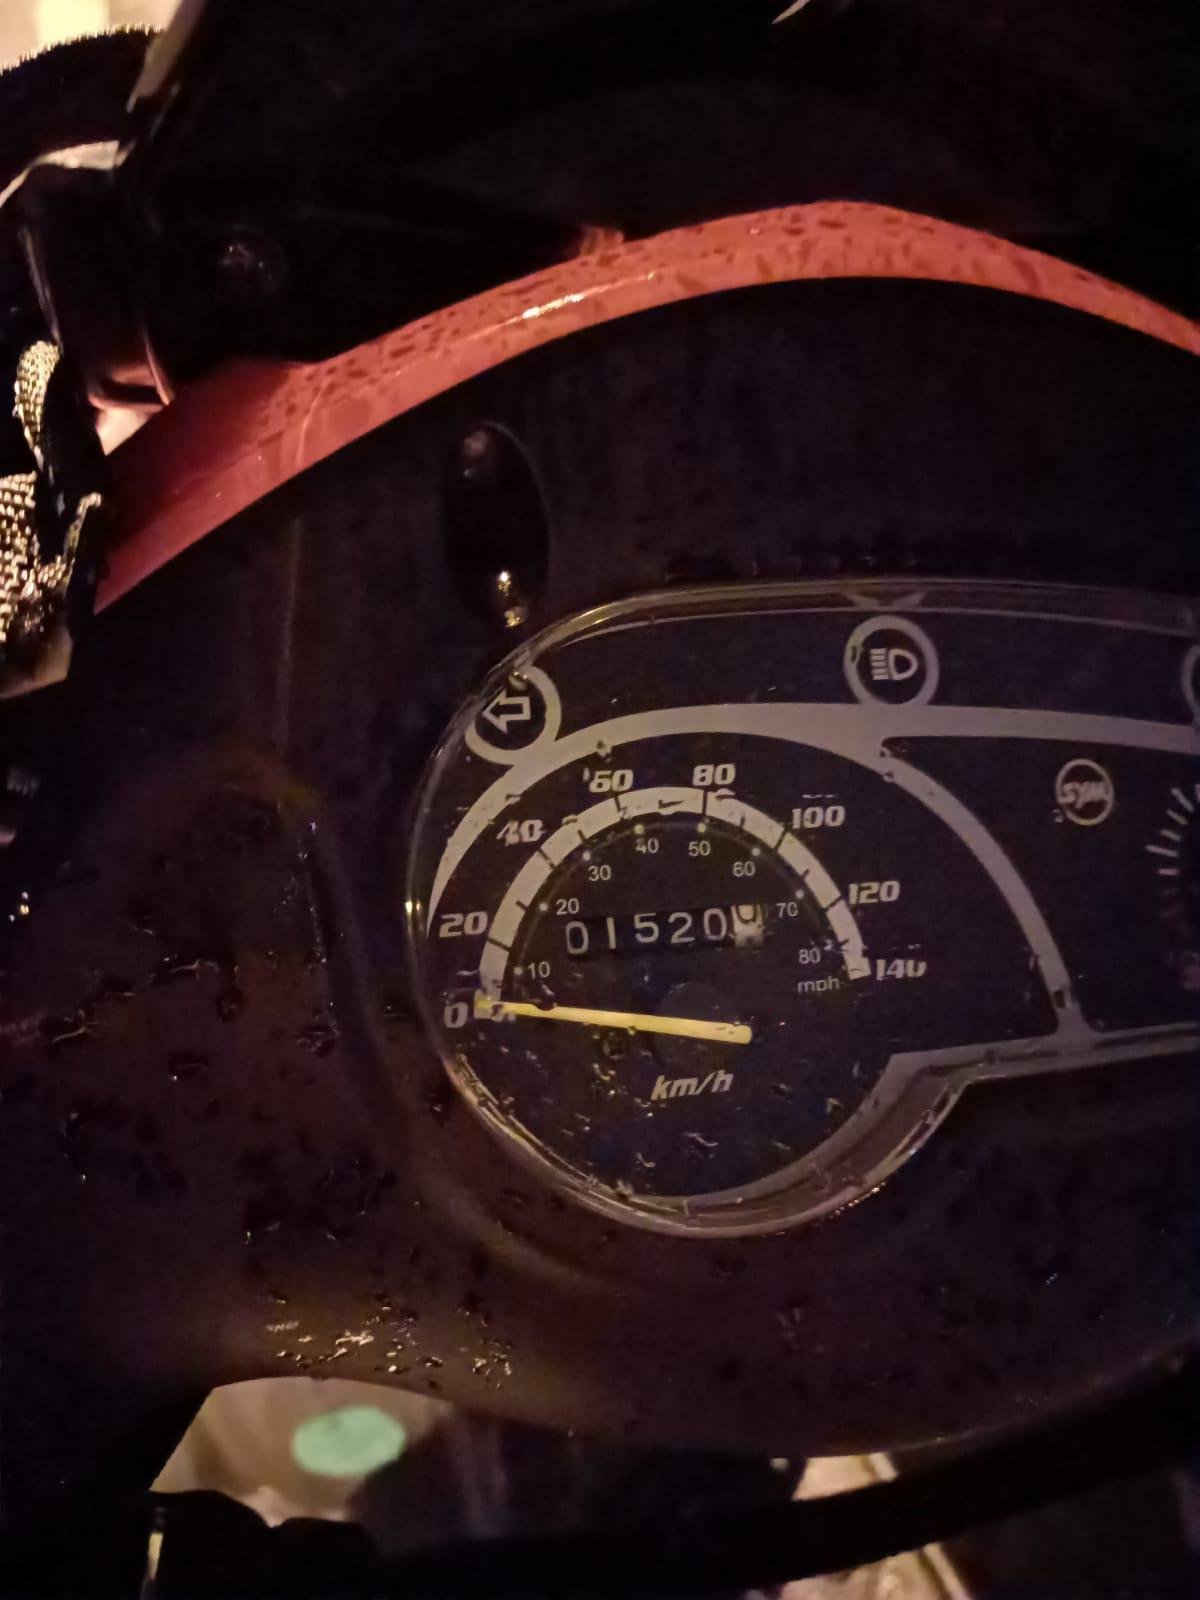0: (700, 907, 727, 946), (563, 918, 592, 954), (734, 898, 760, 934), (568, 897, 580, 913)
1: (603, 913, 621, 952)
2: (667, 911, 696, 945), (556, 898, 566, 913)
5: (632, 908, 659, 945)
odometer: (557, 898, 775, 959)
